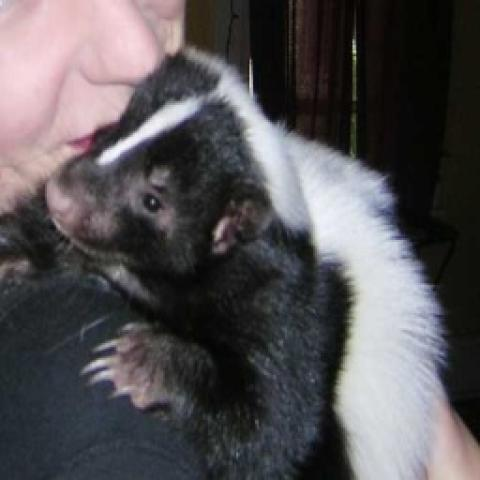small_animal: (47, 44, 456, 480)
